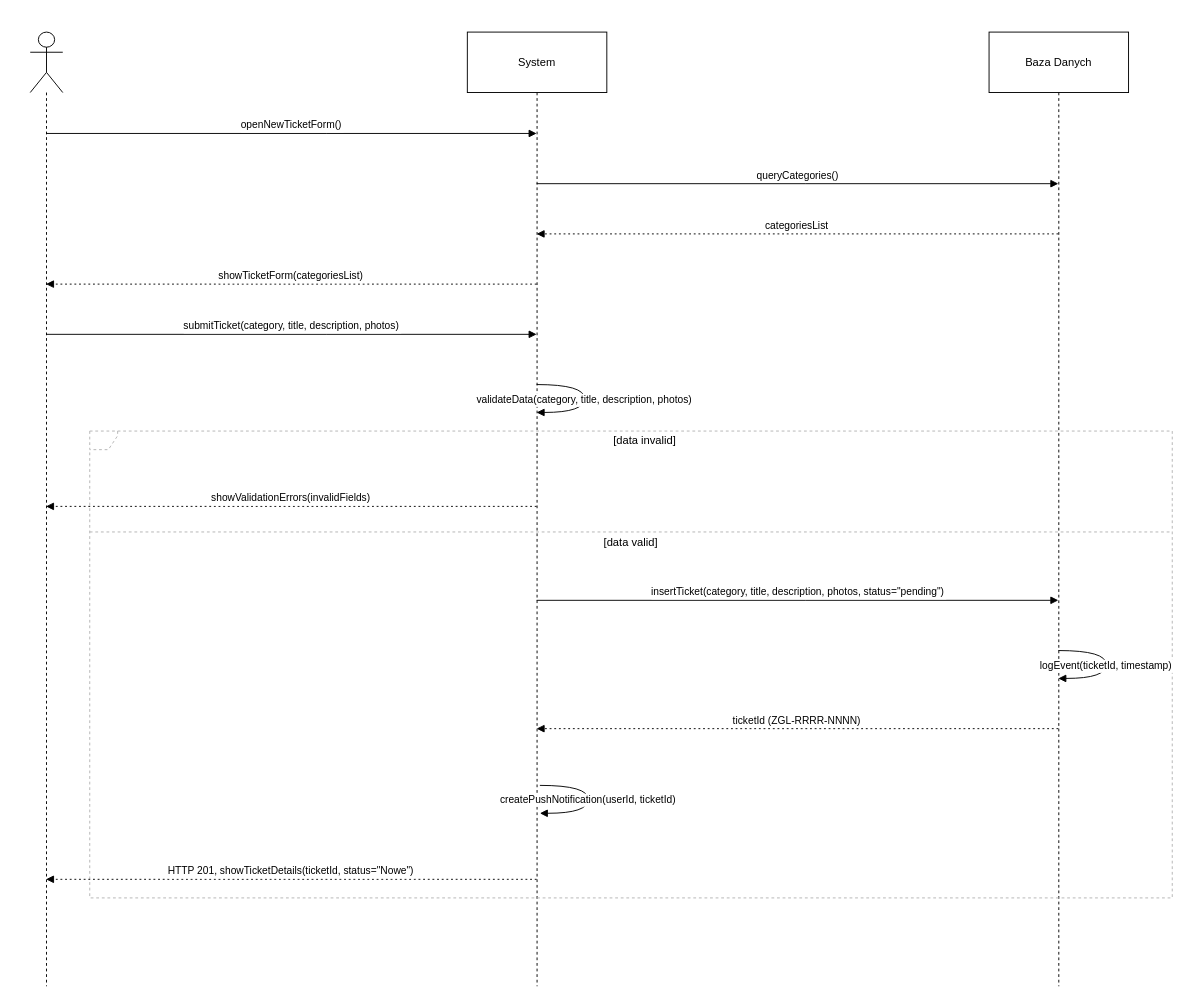
The diagram is 1189 pixels wide and 1003 high, and some of its shapes have lost their labels. The shapes that lost their labels are listed below. From the top down, each one's box as (x1, y1, x2, y2) in pixels, then its label:
(29, 31, 63, 986): Mieszkaniec
(89, 430, 1172, 898): alt
